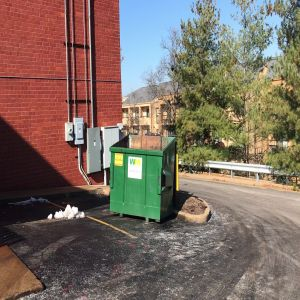Dumpster: (107, 132, 183, 227)
